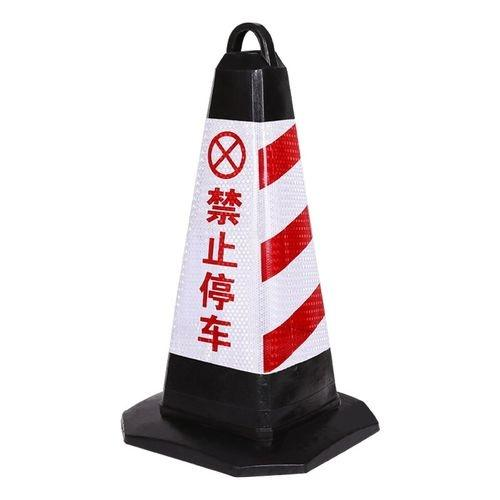cone_barrel: (131, 32, 366, 452)
